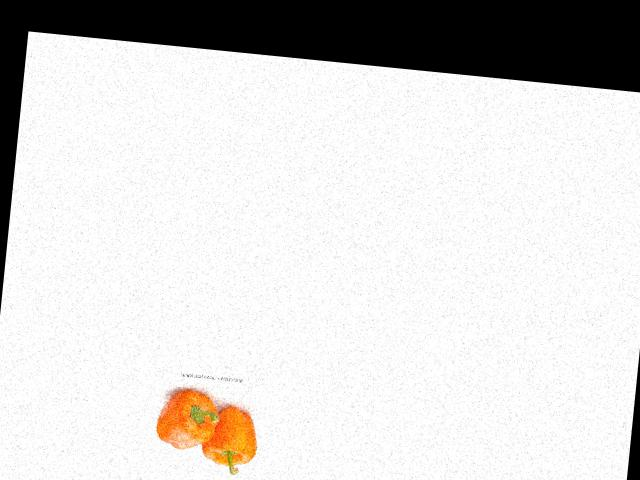bell_pepper: (152, 380, 224, 455)
